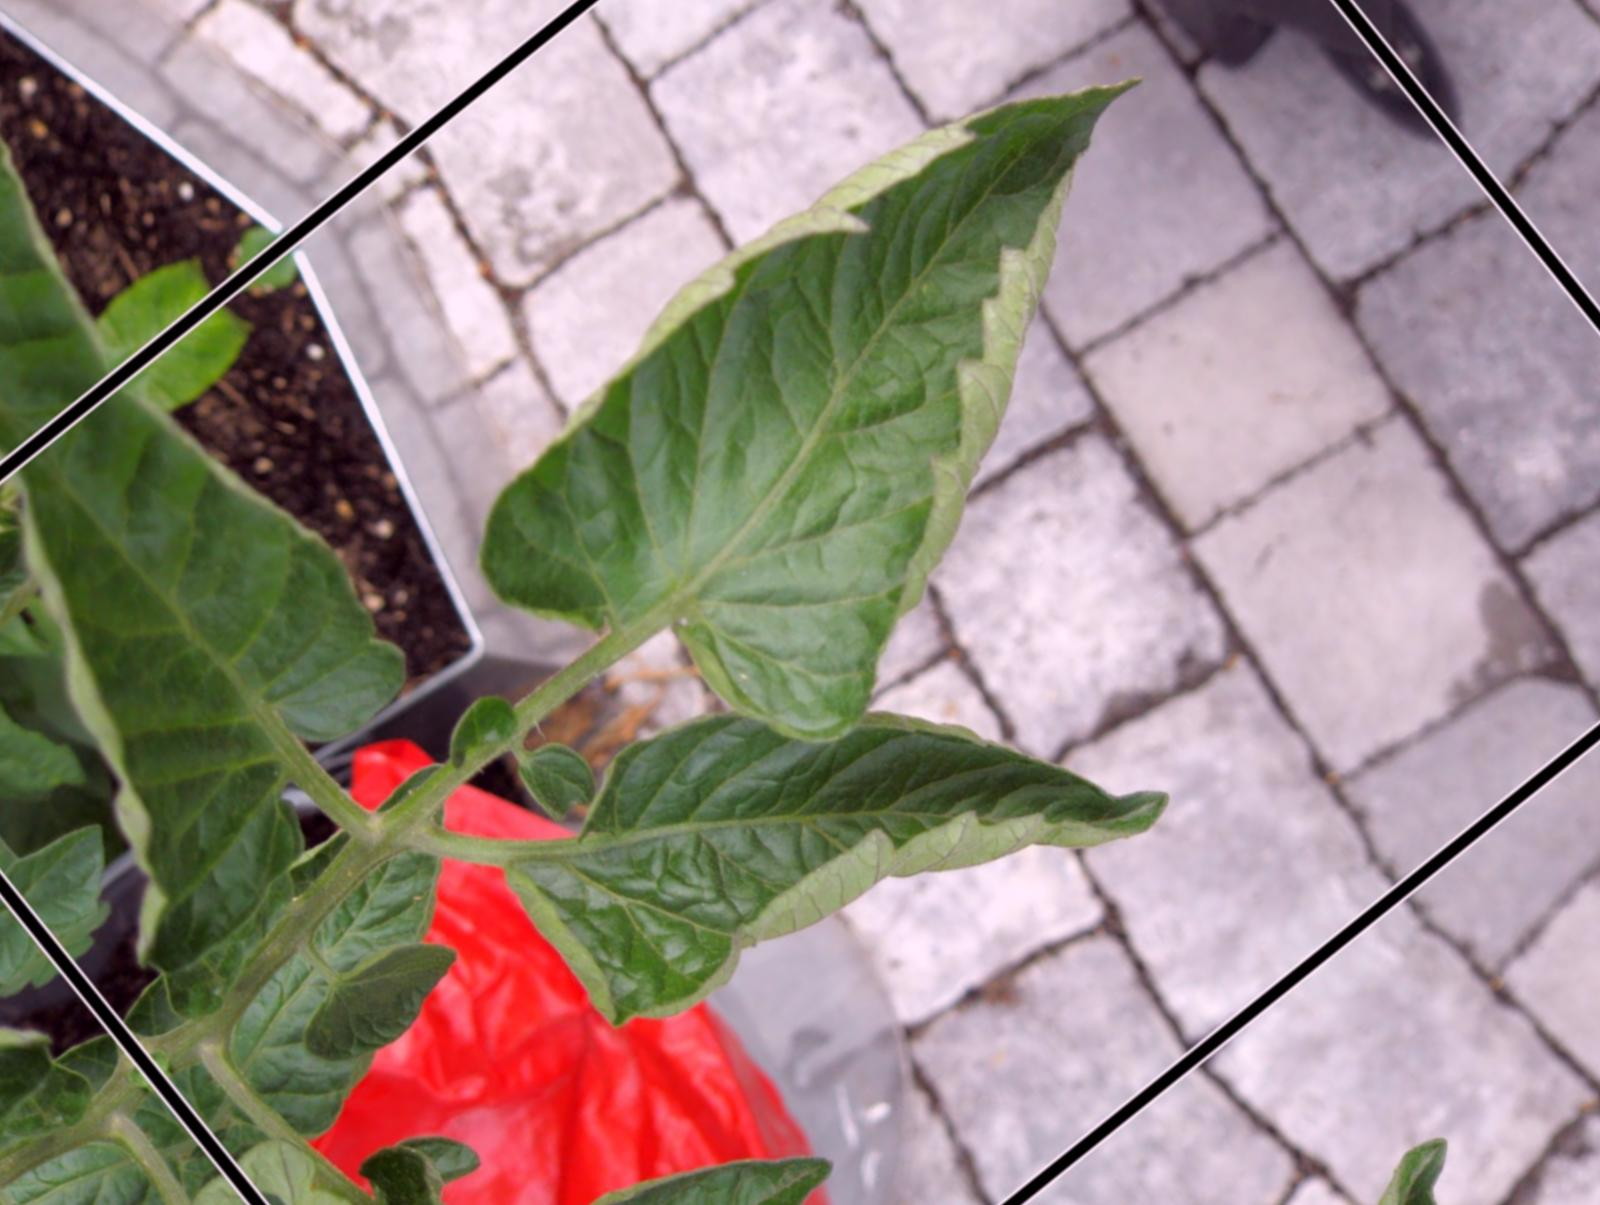Tomato leaf: (427, 17, 1315, 852), (455, 487, 1214, 1205), (0, 341, 491, 996)
